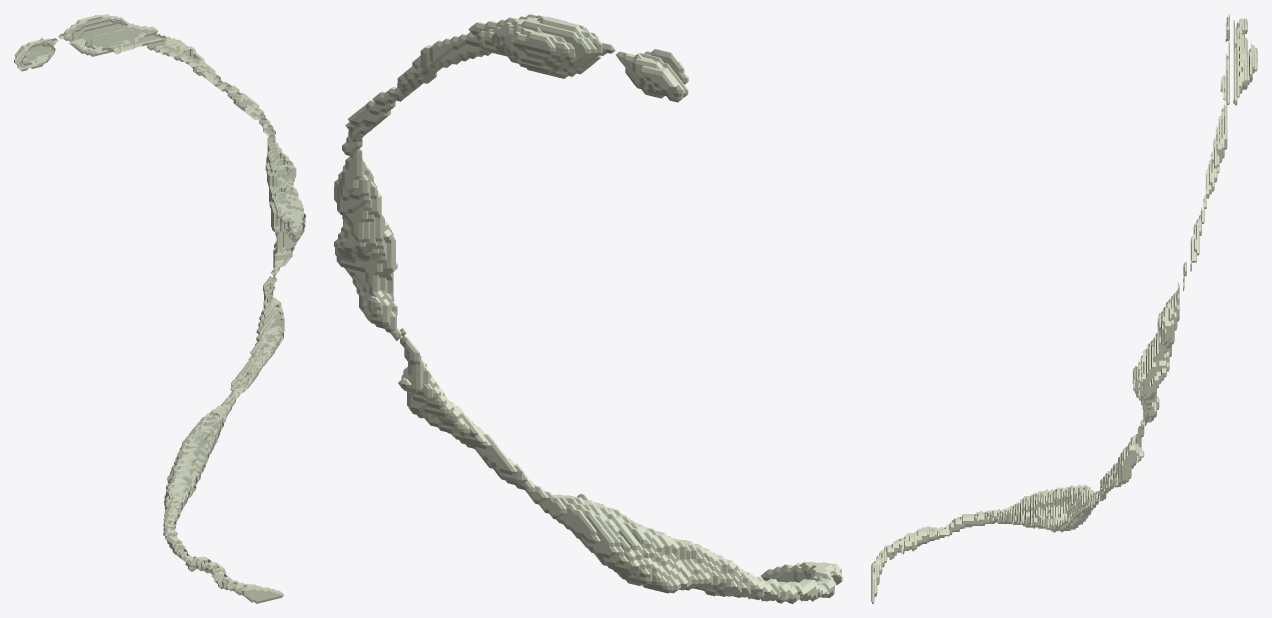
The model's file is SVV_ADFR.gltf.
3 views of the same model, side by side, from view 1: azimuth 30°, elevation 25°; view 2: azimuth 150°, elevation 25°; view 3: azimuth 270°, elevation 25° (orthographic). The views are drawn at different scales.
Parts seen in each view (by area): view 1: ADFR; view 2: ADFR; view 3: ADFR.
Part boxes in pixels (box(x1,y1,x2,y2)): ADFR: box(14, 14, 305, 603); ADFR: box(334, 14, 842, 603); ADFR: box(871, 14, 1257, 603).
Bounding box in the file's own units: 51245 × 91695 × 58905.
